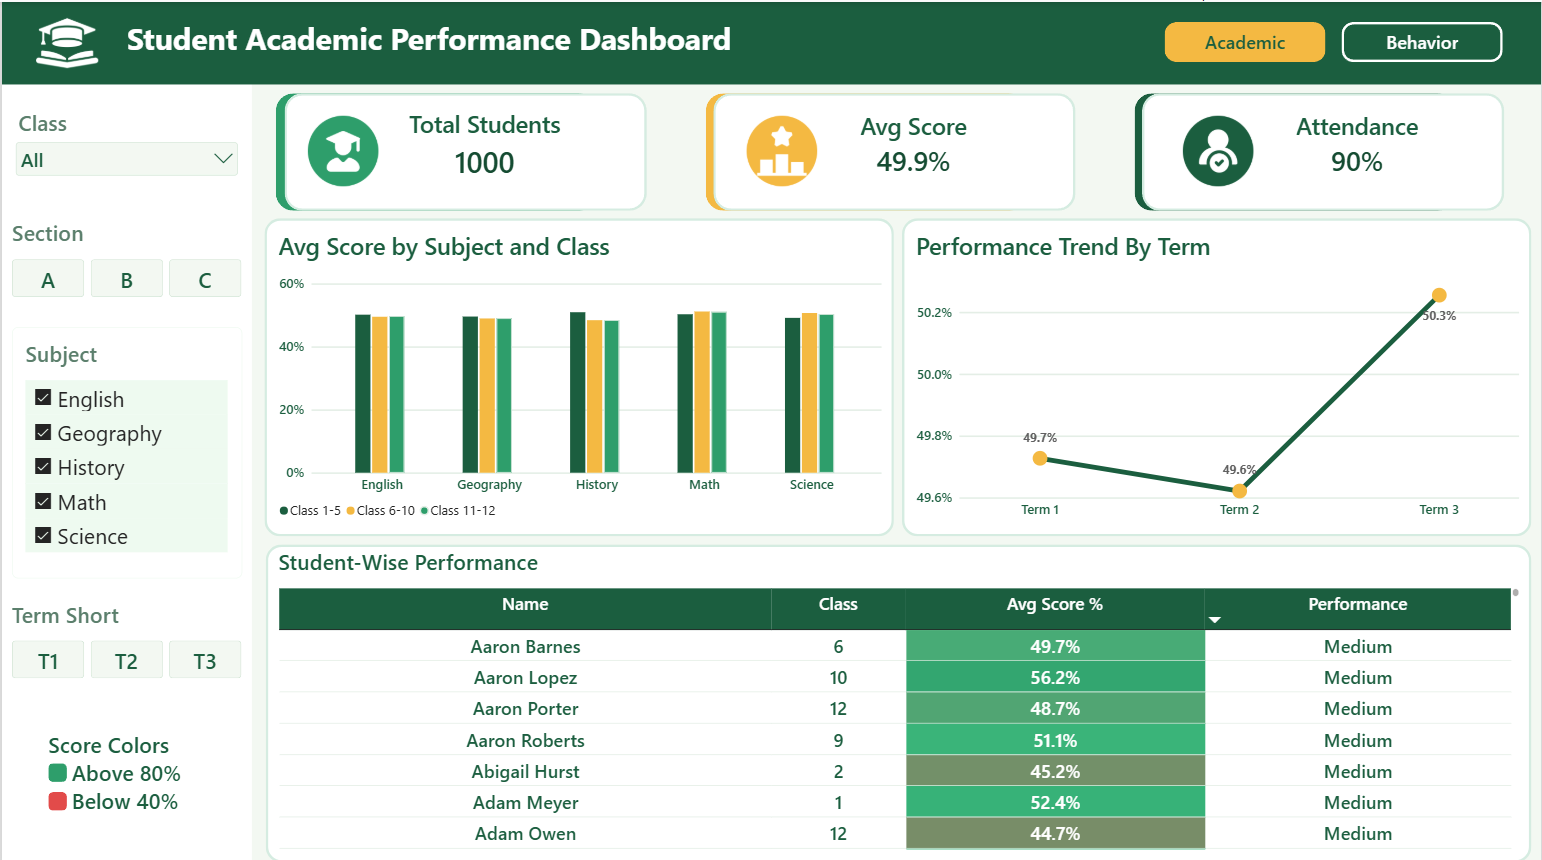

The page's visual inventory and layout, read from the dashboard file:
{"tool":"powerbi","page":{"name":"Academic","canvas":[1920,1080],"ordinal":0},"visuals":[{"type":"shape","title":"Header","box":[0,0,1920,102.9],"z":0,"group":"g5"},{"type":"shape","title":"Siderbar","box":[0,85,311.7,995],"z":0},{"type":"shape","box":[341.7,113.5,400,146.7],"z":0,"group":"g4"},{"type":"shape","box":[876.9,113.5,400,146.7],"z":0,"group":"g3"},{"type":"shape","box":[1411.8,113.5,400,146.7],"z":0,"group":"g2"},{"type":"textbox","box":[57.7,907.3,194.9,112.2],"z":0,"group":"g1"},{"type":"textbox","box":[156.7,20,790,55],"z":1000,"group":"g5"},{"type":"shape","box":[352.4,113.5,451.7,146.7],"z":1000,"group":"g4"},{"type":"shape","box":[886.6,113.5,451.7,146.7],"z":1000,"group":"g3"},{"type":"shape","box":[1421.5,113.5,451.7,146.7],"z":1000,"group":"g2"},{"type":"group","id":"g1","title":"Score Colors","box":[57.7,907.3,194.9,112.2],"z":1000},{"type":"shape","box":[57.7,949.4,23.4,23.4],"z":1000,"group":"g1"},{"type":"pageNavigator","box":[1450,25.7,423.3,50],"z":2000,"group":"g5"},{"type":"group","id":"g2","title":"3rd KPI","box":[1411.8,113.5,461.3,146.7],"z":2000},{"type":"shape","box":[57.7,985.2,23.4,23.4],"z":2000,"group":"g1"},{"type":"shape","box":[328,270,785,396.7],"z":3000},{"type":"group","id":"g3","title":"2nd KPI","box":[876.9,113.5,461.3,146.7],"z":4000},{"type":"group","id":"g4","title":"1st KPI","box":[341.7,113.5,461.7,146.7],"z":5000},{"type":"group","id":"g5","title":"Header","box":[0,0,1920,102.9],"z":6000},{"type":"shape","box":[1121.7,270,785,396.7],"z":7000},{"type":"shape","box":[328.3,676.7,1578.3,396.7],"z":8000},{"type":"image","box":[370,141.7,111.7,88.3],"z":9000},{"type":"image","box":[916.7,141.7,111.7,88.3],"z":10000},{"type":"image","box":[1460,141.7,111.7,88.3],"z":11000},{"type":"cardVisual","fields":{"Data":["Measures_1.Total Students"]},"box":[463.3,126.7,278.3,103.3],"z":12000},{"type":"cardVisual","fields":{"Data":["Measures_1.Avg Score %"]},"box":[998.3,126.7,278.3,103.3],"z":13000},{"type":"cardVisual","fields":{"Data":["Measures_1.Attendance %"]},"box":[1551.7,126.7,278.3,103.3],"z":14000},{"type":"slicer","fields":{"Values":["Students.Class"]},"box":[12.5,132.5,286.8,90.4],"z":15000},{"type":"advancedSlicerVisual","fields":{"Values":["Students.Section"]},"box":[12.5,269.7,286.8,98.2],"z":16000},{"type":"listSlicer","fields":{"Values":["Scores.Subject"]},"box":[12.5,405.3,286.8,313.3],"z":17000},{"type":"advancedSlicerVisual","fields":{"Values":["Scores.Term Short"]},"box":[12.5,745.2,286.8,98.2],"z":18000},{"type":"clusteredColumnChart","title":"Avg Score by Subject and Class ","fields":{"Category":["Scores.Subject"],"Series":["Students.Class Group"],"Y":["Measures_1.Avg Score %"]},"box":[328.9,269.7,784.1,396],"z":19000},{"type":"lineChart","title":"Performance Trend By Term","fields":{"Category":["Scores.Term"],"Y":["Measures_1.Avg Score %"]},"box":[1124,269.7,784.1,396],"z":20000},{"type":"tableEx","title":"Student-Wise Performance","fields":{"Values":["Students.Name","Students.Class","Measures_1.Avg Score %","Measures_1.Performance Category"]},"box":[328.9,665.6,1579.2,406.9],"z":21000},{"type":"image","box":[28.1,12.5,106,77.9],"z":21001}]}

Visuals, with their boxes in screenshot pixels (x1, y1, x2, y2), scaled from the page's 1920x1080 canvas onto the 1542x860 screenshot:
"Header" shape: pyautogui.locateOnScreen(0, 0, 1541, 82)
"Siderbar" shape: pyautogui.locateOnScreen(0, 68, 250, 859)
shape: pyautogui.locateOnScreen(274, 90, 596, 207)
shape: pyautogui.locateOnScreen(704, 90, 1026, 207)
shape: pyautogui.locateOnScreen(1134, 90, 1455, 207)
textbox: pyautogui.locateOnScreen(46, 722, 203, 812)
textbox: pyautogui.locateOnScreen(126, 16, 760, 60)
shape: pyautogui.locateOnScreen(283, 90, 646, 207)
shape: pyautogui.locateOnScreen(712, 90, 1075, 207)
shape: pyautogui.locateOnScreen(1142, 90, 1504, 207)
"Score Colors" group: pyautogui.locateOnScreen(46, 722, 203, 812)
shape: pyautogui.locateOnScreen(46, 756, 65, 775)
pageNavigator: pyautogui.locateOnScreen(1165, 20, 1504, 60)
"3rd KPI" group: pyautogui.locateOnScreen(1134, 90, 1504, 207)
shape: pyautogui.locateOnScreen(46, 785, 65, 803)
shape: pyautogui.locateOnScreen(263, 215, 894, 531)
"2nd KPI" group: pyautogui.locateOnScreen(704, 90, 1075, 207)
"1st KPI" group: pyautogui.locateOnScreen(274, 90, 645, 207)
"Header" group: pyautogui.locateOnScreen(0, 0, 1541, 82)
shape: pyautogui.locateOnScreen(901, 215, 1531, 531)
shape: pyautogui.locateOnScreen(264, 539, 1531, 855)
image: pyautogui.locateOnScreen(297, 113, 387, 183)
image: pyautogui.locateOnScreen(736, 113, 826, 183)
image: pyautogui.locateOnScreen(1173, 113, 1262, 183)
cardVisual - Measures_1.Total Students: pyautogui.locateOnScreen(372, 101, 596, 183)
cardVisual - Measures_1.Avg Score %: pyautogui.locateOnScreen(802, 101, 1025, 183)
cardVisual - Measures_1.Attendance %: pyautogui.locateOnScreen(1246, 101, 1470, 183)
slicer - Students.Class: pyautogui.locateOnScreen(10, 106, 240, 177)
advancedSlicerVisual - Students.Section: pyautogui.locateOnScreen(10, 215, 240, 293)
listSlicer - Scores.Subject: pyautogui.locateOnScreen(10, 323, 240, 572)
advancedSlicerVisual - Scores.Term Short: pyautogui.locateOnScreen(10, 593, 240, 672)
"Avg Score by Subject and Class " clusteredColumnChart: pyautogui.locateOnScreen(264, 215, 894, 530)
"Performance Trend By Term" lineChart: pyautogui.locateOnScreen(903, 215, 1532, 530)
"Student-Wise Performance" tableEx: pyautogui.locateOnScreen(264, 530, 1532, 854)
image: pyautogui.locateOnScreen(23, 10, 108, 72)
